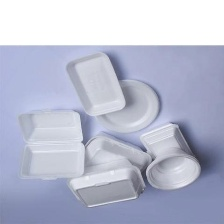foam_box: (12, 103, 90, 183), (60, 49, 128, 120), (62, 156, 149, 210), (88, 74, 164, 135), (74, 129, 154, 173), (143, 146, 203, 195), (137, 120, 198, 163)
